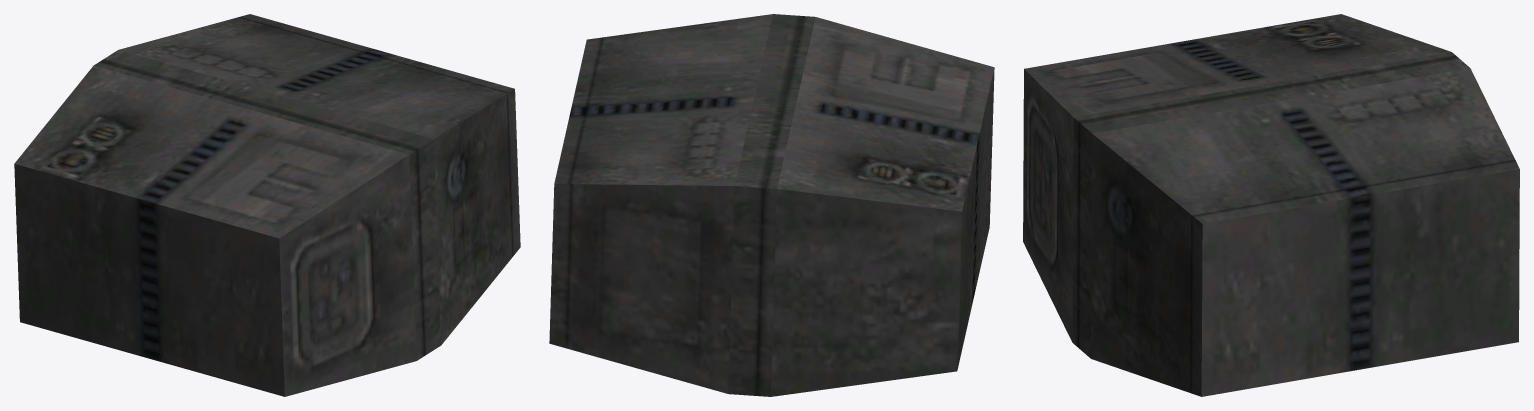
File: poi_powerdroidbody_l1.fbx
The picture shows the model from 3 angles, left to right: view 1: azimuth 30°, elevation 25°; view 2: azimuth 150°, elevation 25°; view 3: azimuth 270°, elevation 25°; orthographic projection. The views are drawn at different scales.
Visible parts, largest first — view 1: mesh_node; view 2: mesh_node; view 3: mesh_node.
Boxes of the visible parts, x1=… form: mesh_node: x1=14, y1=14, x2=520, y2=396; mesh_node: x1=549, y1=14, x2=994, y2=396; mesh_node: x1=1023, y1=14, x2=1519, y2=396.
Bounding box in the file's own units: 1.09 × 0.5063 × 0.9914.
